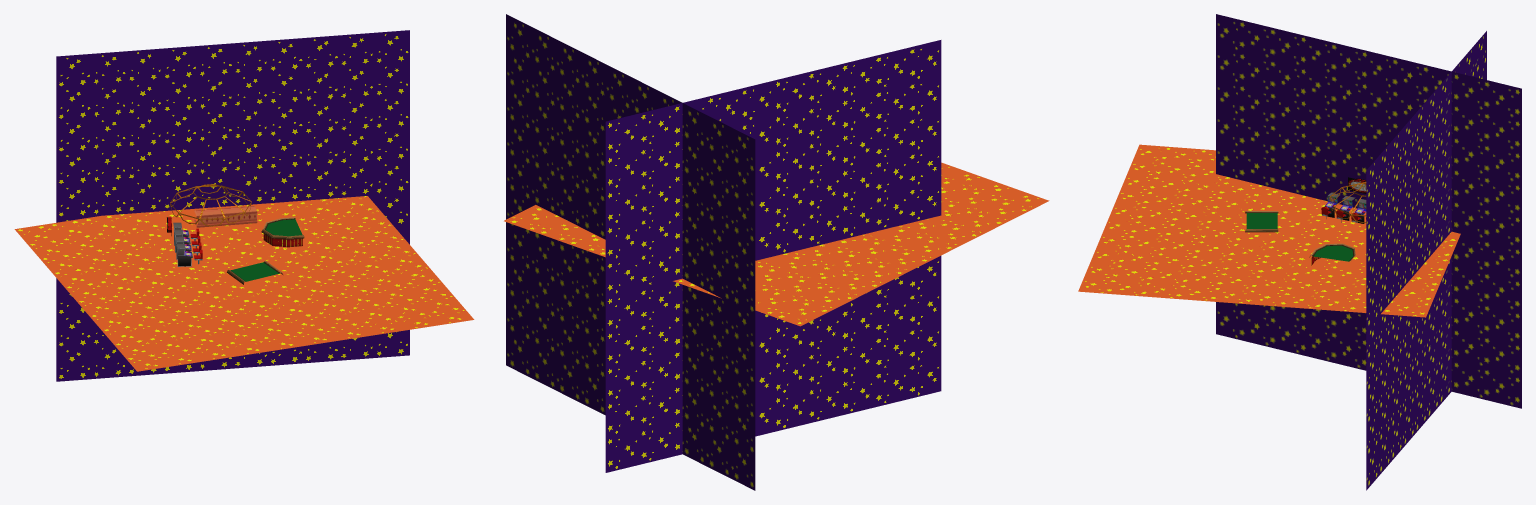
The model's file is Casino.gltf.
The picture shows the model from 3 angles, left to right: view 1: azimuth 30°, elevation 25°; view 2: azimuth 150°, elevation 25°; view 3: azimuth 270°, elevation 25°; orthographic projection. The views are drawn at different scales.
Visible parts, largest first — view 1: CasinoWall1, CasinoFloor, Pot-_material2.001, Chandelier-_material4.001, Tables1Top-_material8.001, Machines-_material6.001; view 2: CasinoWall2, CasinoWall1, CasinoFloor; view 3: CasinoWall2, CasinoFloor, CasinoWall1, Tables1Top-_material8.001.
Boxes of the visible parts, <box> form: CasinoWall1: <box>56,30,409,381</box>; CasinoFloor: <box>14,196,474,371</box>; Pot-_material2.001: <box>194,206,257,227</box>; Chandelier-_material4.001: <box>170,184,251,226</box>; Tables1Top-_material8.001: <box>227,260,282,284</box>; Machines-_material6.001: <box>173,222,192,266</box>; CasinoWall2: <box>605,40,941,472</box>; CasinoWall1: <box>506,14,755,490</box>; CasinoFloor: <box>504,162,1049,326</box>; CasinoWall2: <box>1216,14,1521,408</box>; CasinoFloor: <box>1078,144,1460,317</box>; CasinoWall1: <box>1366,31,1486,490</box>; Tables1Top-_material8.001: <box>1245,211,1278,232</box>.
Size of what is drawn, in the model's own units: 24.96 by 20 by 25.12.
9 materials, 9 textured.
